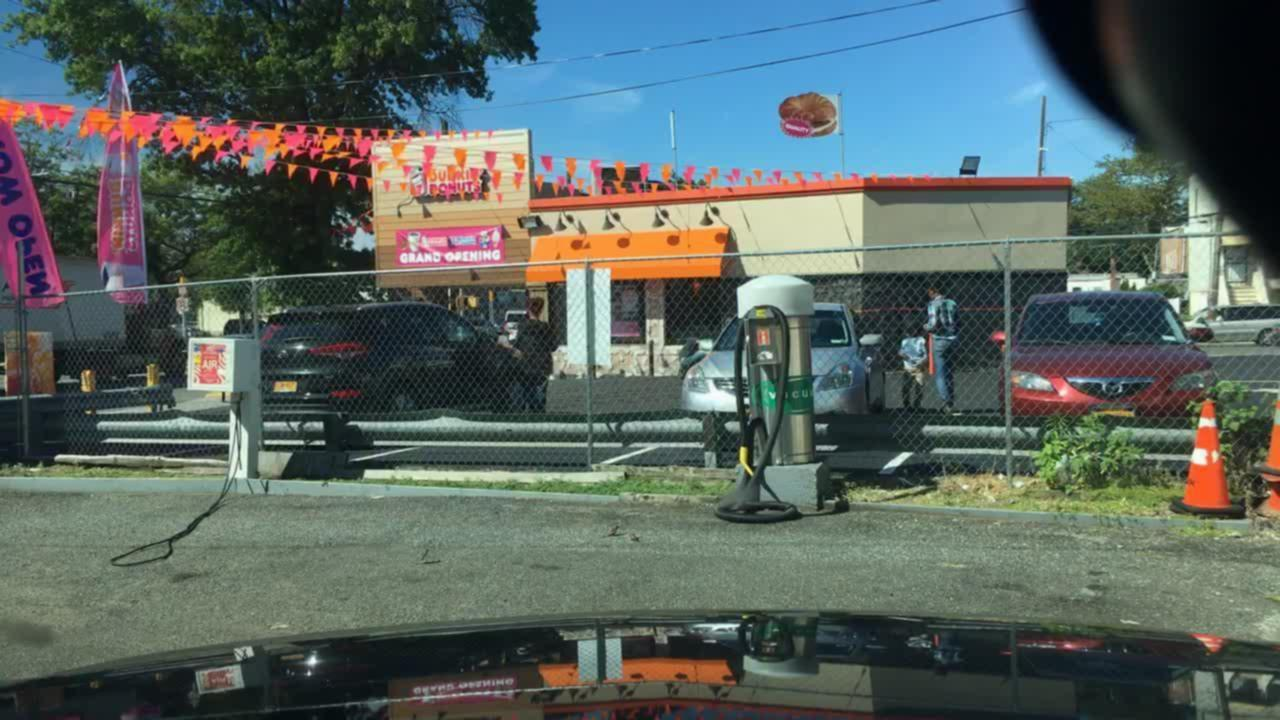Mazda: (1101, 375, 1125, 403)
